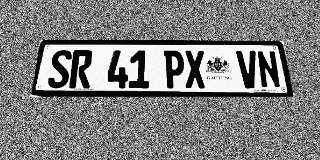1: (128, 50, 149, 88)
4: (107, 50, 129, 88)
N: (256, 51, 282, 88)
P: (164, 50, 185, 88)
R: (69, 50, 93, 88)
S: (47, 50, 72, 88)
V: (236, 51, 260, 88)
X: (184, 50, 206, 88)
